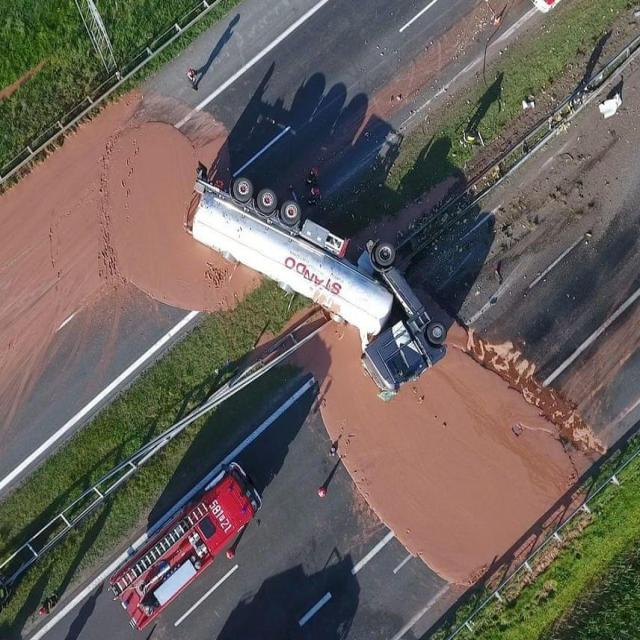traffic_incident: (170, 170, 434, 388)
